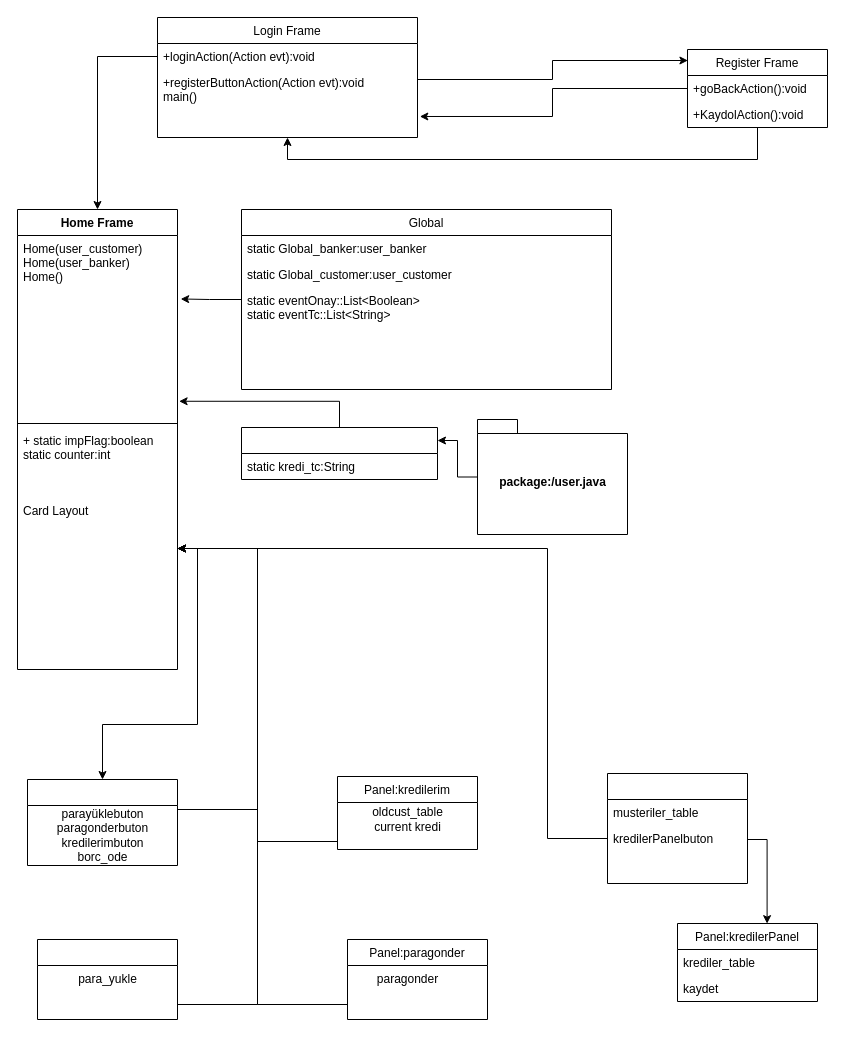
The diagram is 845 pixels wide and 1037 high, and some of its shapes have lost their labels. Each missing label, with the box of its shape:
kredilerSon extends kredilerimm: (240, 426, 438, 480)
Panel:Anasayfa: (26, 778, 178, 866)
Panel:banker_home: (606, 772, 748, 884)
Panel:parayukle: (36, 938, 178, 1020)
